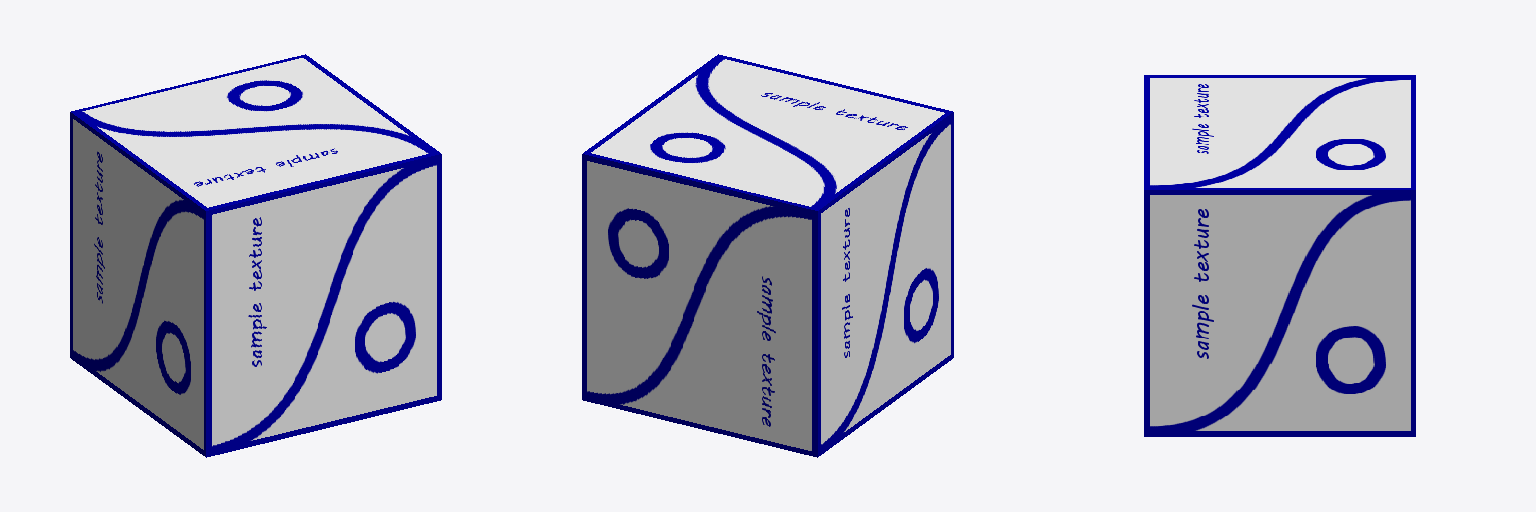
3 views of the same model, side by side, from view 1: azimuth 30°, elevation 25°; view 2: azimuth 150°, elevation 25°; view 3: azimuth 270°, elevation 25° (orthographic).
Parts seen in each view (by area): view 1: Cube; view 2: Cube; view 3: Cube.
Boxes of the visible parts, box(x1,y1,x2,y2) form: Cube: box(70, 54, 441, 457); Cube: box(582, 54, 953, 457); Cube: box(1144, 75, 1415, 436).
Bounding box in the file's own units: 4 × 4 × 4.
1 materials, 1 textured.